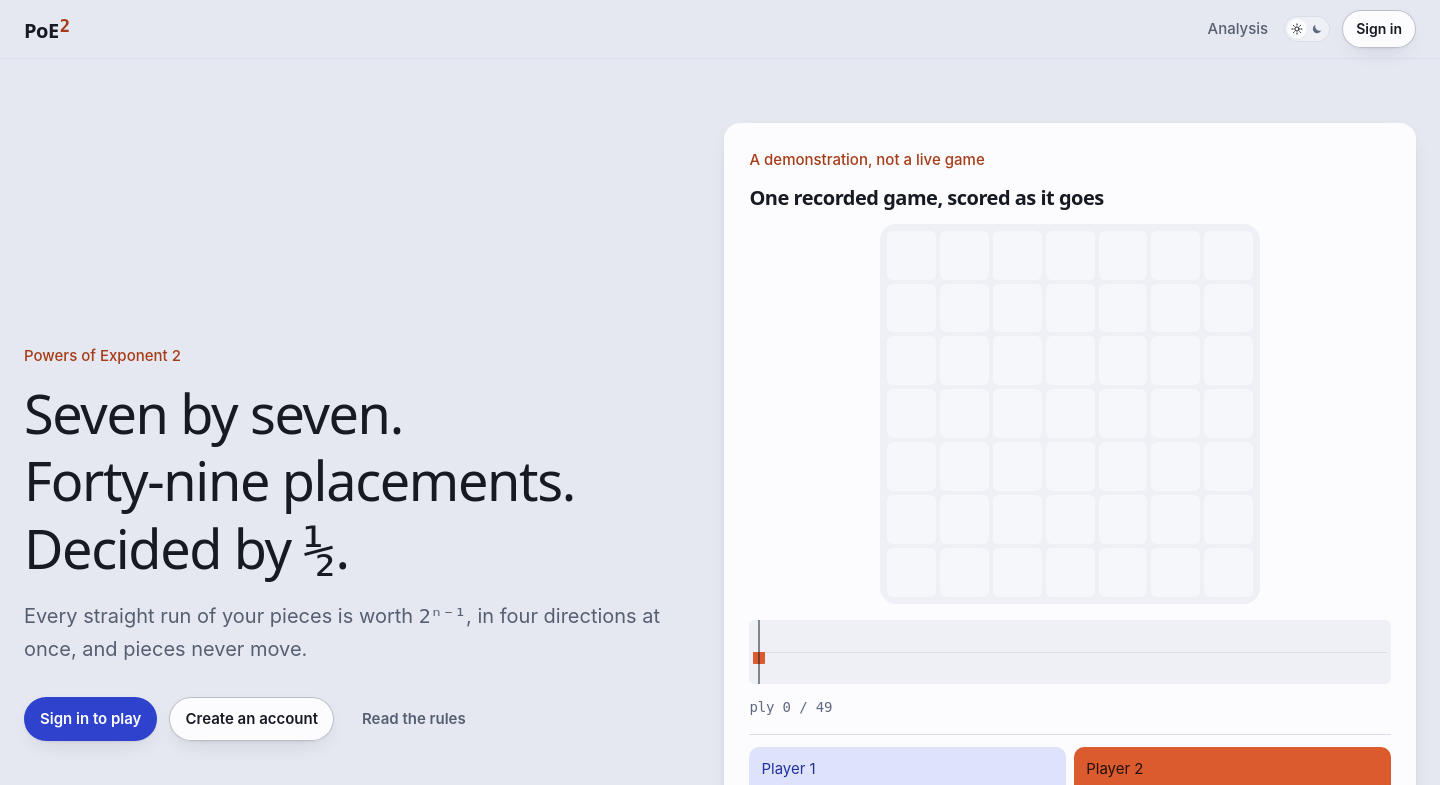
Test: the landing page's rules › opens the rules for a signed-out visitor
Expected: the link "Sign in to play" is shown, top-left (24, 697), bottom-right (158, 741)
Step 1. Click the button "Read the rules" → (414, 719), box top-left (346, 697), bottom-right (482, 741)
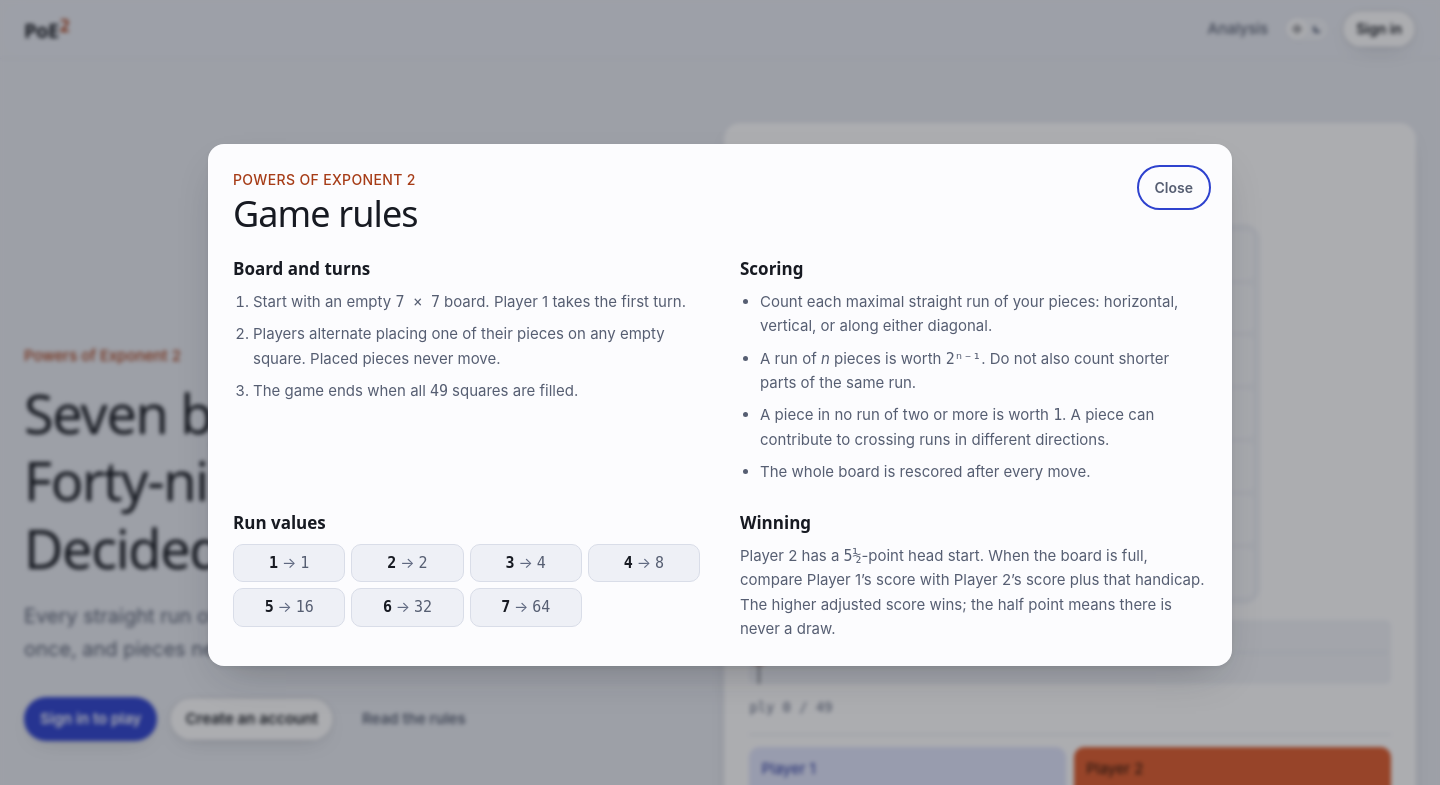
Expected: the heading "Board and turns" is shown, top-left (233, 257), bottom-right (370, 280)
Expected: the heading "Scoring" is shown, top-left (740, 257), bottom-right (804, 280)
Expected: the heading "Winning" is shown, top-left (740, 511), bottom-right (811, 534)
Step 2. Click the button "Close" → (1174, 188), box top-left (1140, 169), bottom-right (1207, 206)
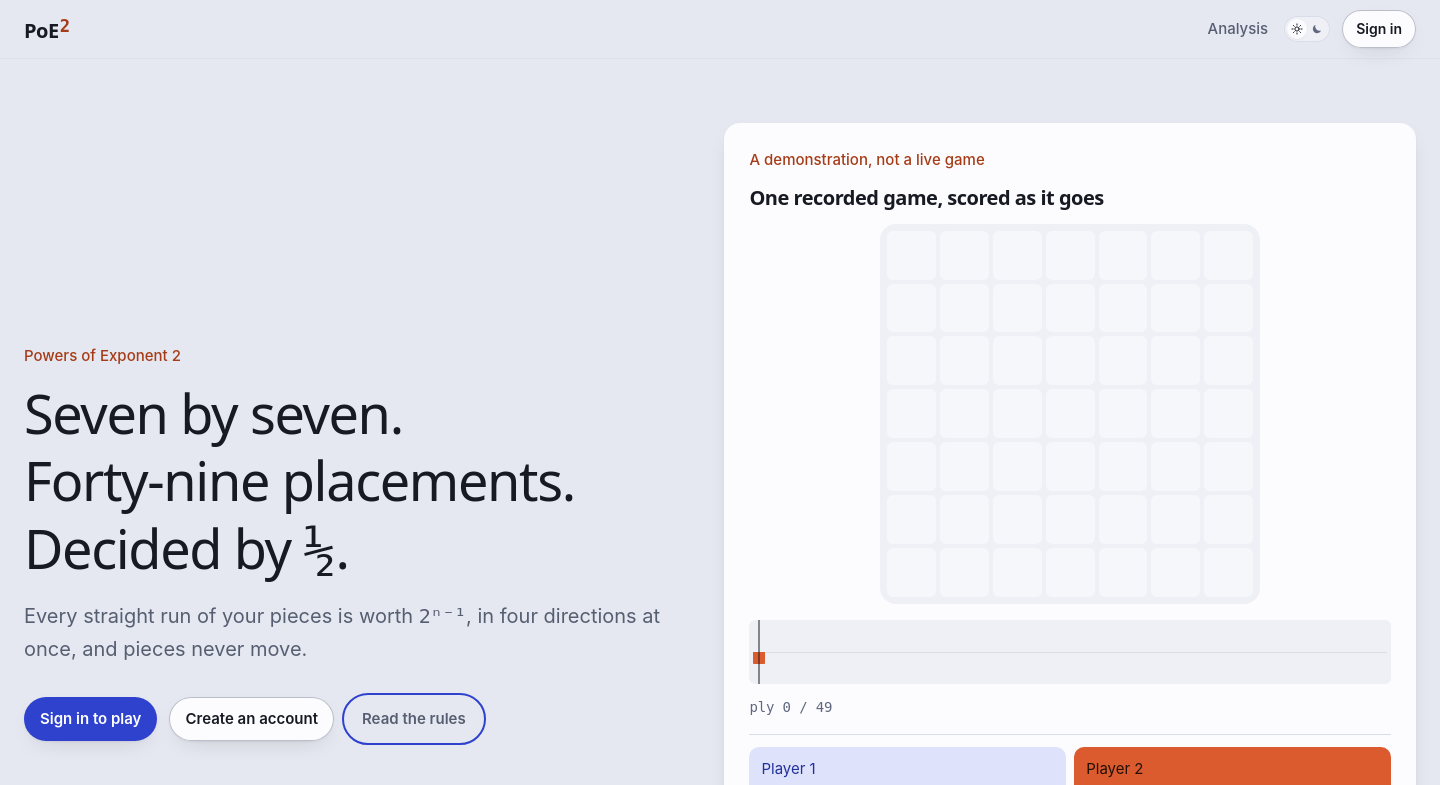
Expected: the heading "Game rules" is gone
